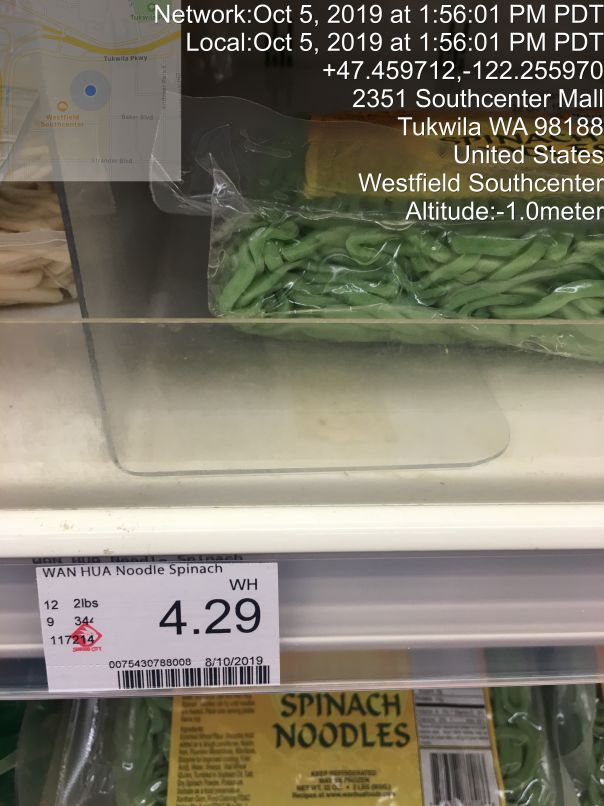Label: (24, 552, 306, 722)
Location: (345, 79, 604, 199)
Time: (143, 1, 604, 59)
Wan hua Noodle spinach: (203, 148, 604, 375)
